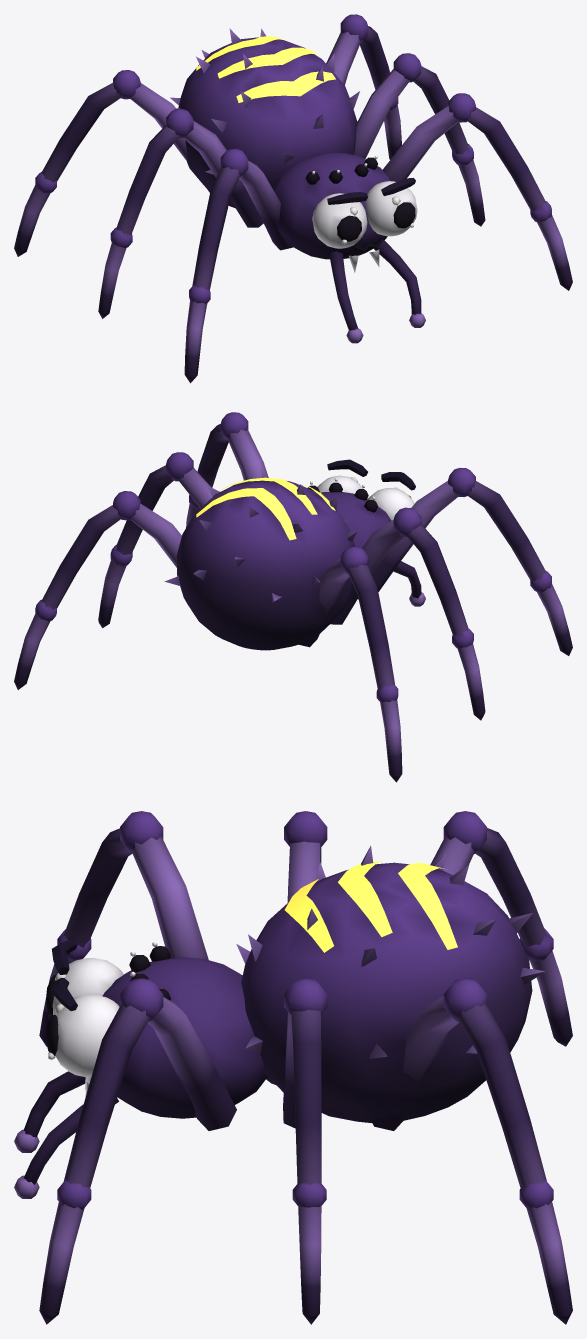
Rendered from bug_haunted.glb.
3 views of the same model, one above another, from view 1: azimuth 30°, elevation 25°; view 2: azimuth 150°, elevation 25°; view 3: azimuth 270°, elevation 25° (orthographic). The views are drawn at different scales.
Parts seen in each view (by area): view 1: body, leg_R1, leg_L1, leg_R2, leg_R3, leg_L2, leg_L3, eye_R, eye_L; view 2: body, leg_R1, leg_R3, leg_L3, leg_R2, leg_L2, leg_L1, eye_R, eye_L; view 3: body, leg_L1, leg_L3, leg_L2, leg_R1, leg_R3, eye_L, leg_R2, eye_R.
Boxes of the visible parts, x1,y1,x2,y2 form: body: [170, 28, 425, 343]; leg_R1: [184, 148, 293, 383]; leg_L1: [382, 93, 572, 290]; leg_R2: [98, 109, 263, 318]; leg_R3: [14, 70, 209, 256]; leg_L2: [354, 53, 485, 226]; leg_L3: [326, 14, 401, 159]; eye_R: [312, 193, 367, 248]; eye_L: [365, 181, 417, 236]; body: [164, 459, 425, 650]; leg_R1: [358, 468, 572, 655]; leg_R3: [299, 546, 402, 782]; leg_L3: [14, 491, 181, 689]; leg_R2: [331, 507, 485, 720]; leg_L2: [98, 452, 212, 628]; leg_L1: [186, 412, 268, 527]; eye_R: [368, 487, 414, 520]; eye_L: [317, 475, 362, 493]; body: [14, 845, 545, 1198]; leg_L1: [39, 978, 236, 1324]; leg_L3: [371, 978, 572, 1324]; leg_L2: [283, 978, 327, 1324]; leg_R1: [39, 811, 208, 1046]; leg_R3: [430, 811, 572, 1046]; eye_L: [46, 994, 119, 1077]; leg_R2: [284, 811, 327, 902]; eye_R: [46, 958, 123, 1015].
Size of the model in its own units: 1.36 by 0.7129 by 1.13.
